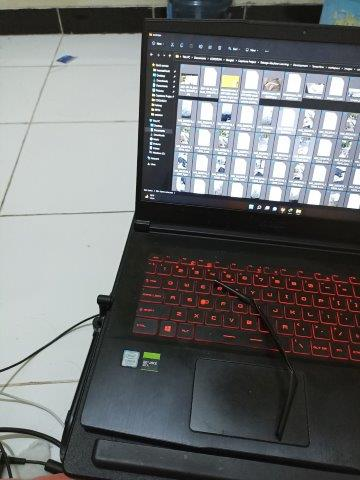sedotan: (215, 279, 297, 439)
